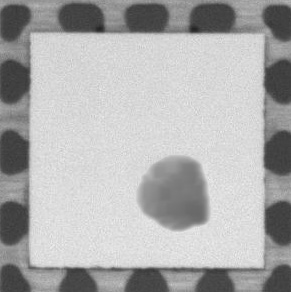DIE_INK: (121, 147, 224, 241)
